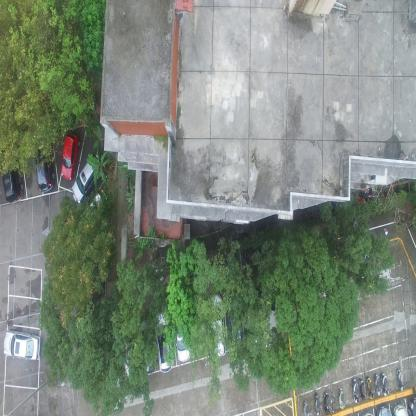car: (2, 139, 26, 204), (72, 153, 101, 204), (35, 135, 57, 192), (209, 292, 227, 359), (3, 330, 41, 360), (154, 312, 173, 372), (261, 286, 278, 350), (139, 312, 157, 372), (175, 303, 191, 364), (61, 131, 80, 181), (229, 291, 245, 350), (393, 404, 409, 415), (377, 404, 391, 415), (408, 396, 415, 415)
